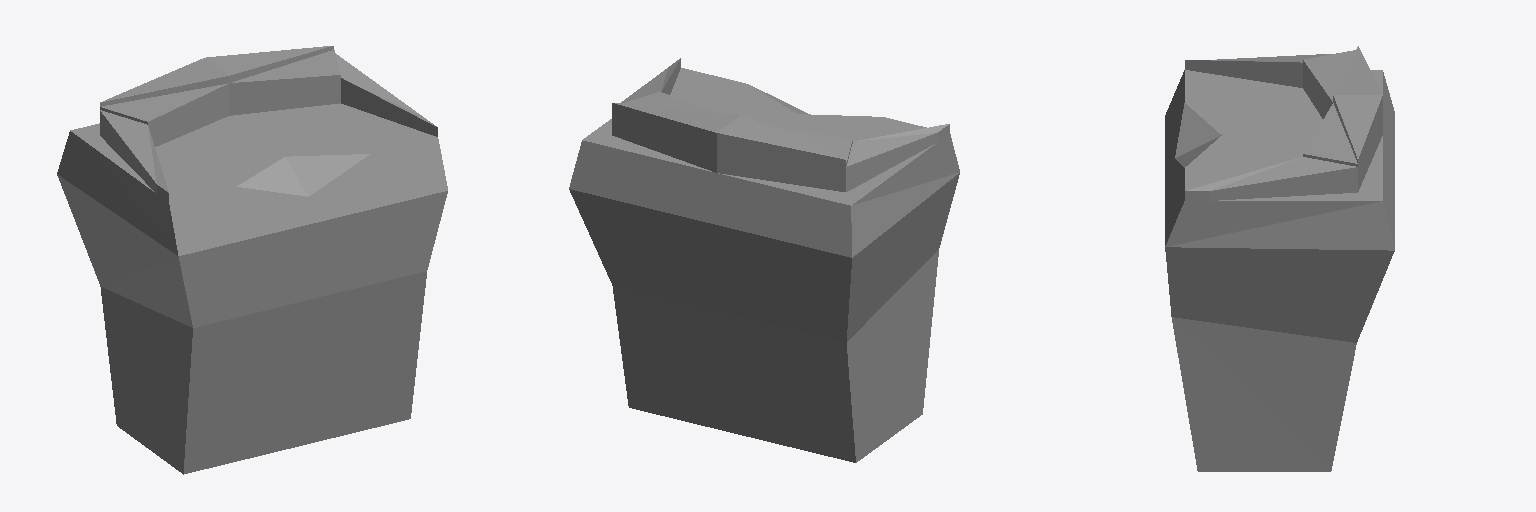
Rendered from skirt.obj.
The picture shows the model from 3 angles: view 1: azimuth 30°, elevation 25°; view 2: azimuth 150°, elevation 25°; view 3: azimuth 270°, elevation 25°; orthographic projection.
Parts seen in each view (by area): view 1: Cube.003, Cube.002, Cube.001; view 2: Cube.003, Cube.002, Cube.001; view 3: Cube.003, Cube.002, Cube.001.
Part boxes in pixels (left/top/right/bottom): Cube.003: left=57, top=103, right=447, bottom=327; Cube.002: left=100, top=271, right=426, bottom=474; Cube.001: left=100, top=46, right=437, bottom=202; Cube.003: left=569, top=68, right=959, bottom=342; Cube.002: left=613, top=250, right=938, bottom=462; Cube.001: left=612, top=58, right=949, bottom=191; Cube.003: left=1165, top=70, right=1394, bottom=342; Cube.002: left=1172, top=317, right=1356, bottom=471; Cube.001: left=1185, top=46, right=1382, bottom=200.
Bounding box in the file's own units: 1.89 × 2.05 × 1.33.